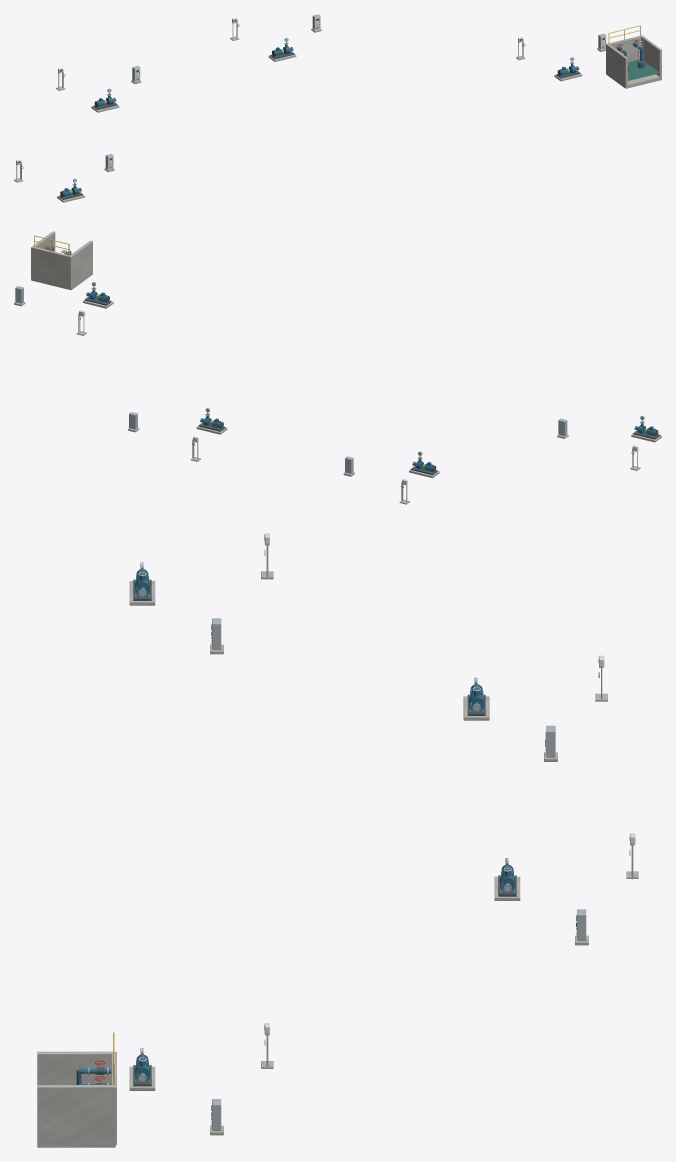
Rendered from network-details.glb.
3 renders of one model, top to bottom at view 1: azimuth 30°, elevation 25°; view 2: azimuth 150°, elevation 25°; view 3: azimuth 270°, elevation 25°, orthographic. The views are drawn at different scales.
Visible parts, largest first — view 1: B-WETWELL-CUTAWAY, A-PUMP-INSPECTION, C-PUMP-INSPECTION, B-PUMP-INSPECTION, D-PUMP-INSPECTION; view 2: B-WETWELL-CUTAWAY; view 3: B-WETWELL-CUTAWAY.
Part boxes in pixels (x1=…): B-WETWELL-CUTAWAY: x1=606, y1=25, x2=661, y2=88; A-PUMP-INSPECTION: x1=57, y1=183, x2=84, y2=202; C-PUMP-INSPECTION: x1=91, y1=93, x2=119, y2=112; B-PUMP-INSPECTION: x1=554, y1=62, x2=582, y2=81; D-PUMP-INSPECTION: x1=268, y1=42, x2=296, y2=61; B-WETWELL-CUTAWAY: x1=31, y1=231, x2=92, y2=290; B-WETWELL-CUTAWAY: x1=37, y1=1032, x2=116, y2=1147.
Bounding box in the file's own units: 48.44 × 3.25 × 21.43.
Materials: 9 (1 with a texture image).
